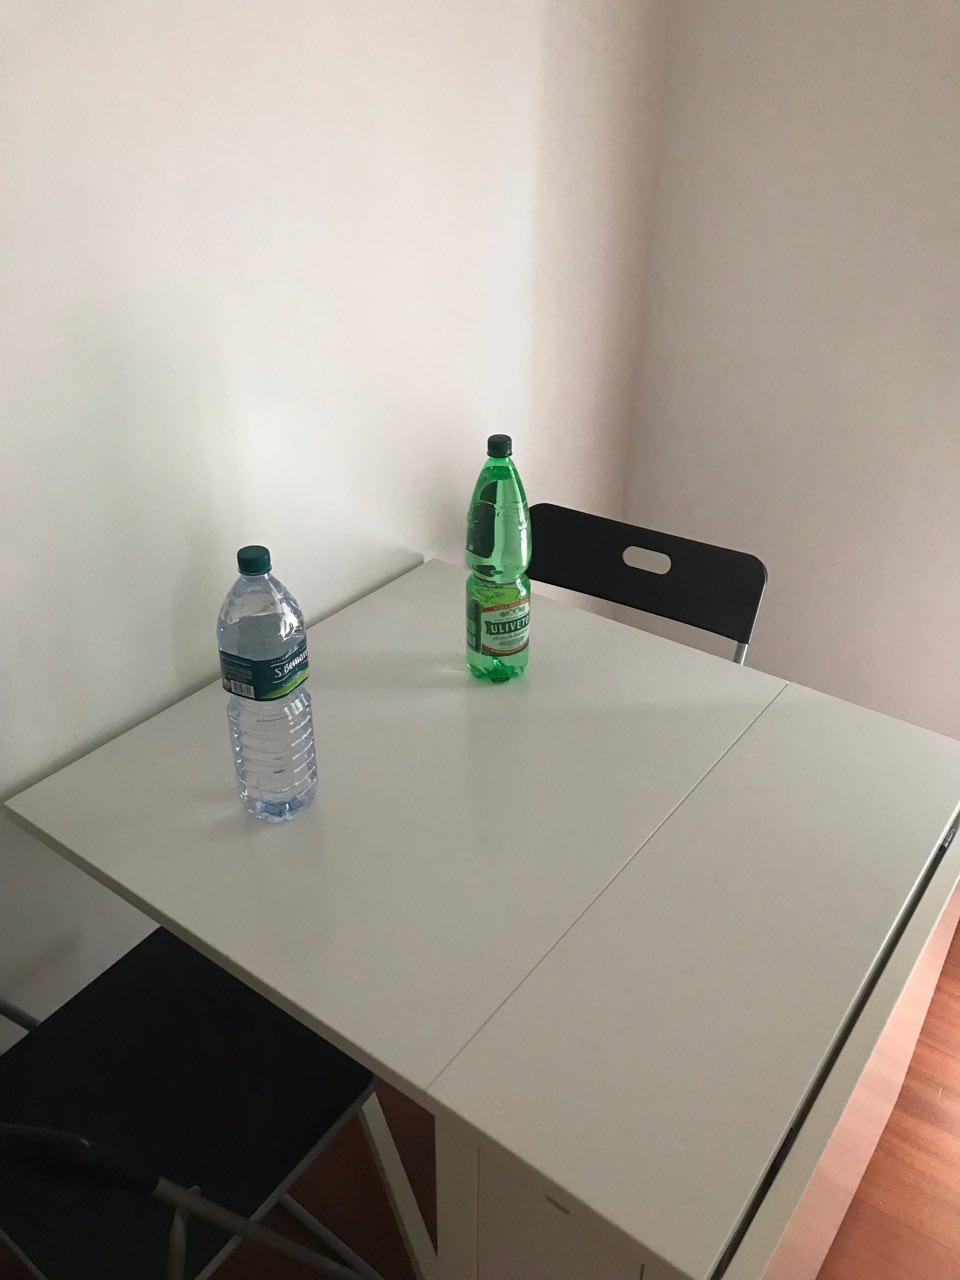san_bernardo: (216, 545, 319, 823)
